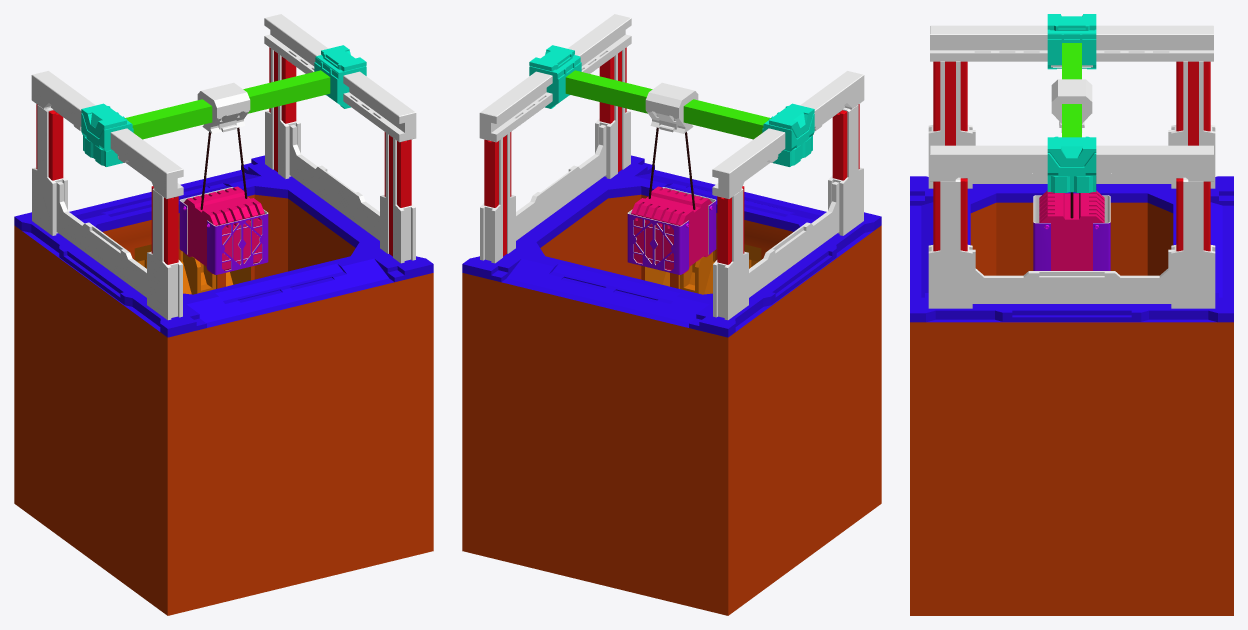
Rendered from Scifi_Prop_Crane_2x2.fbx.
The picture shows the model from 3 angles, left to right: view 1: azimuth 30°, elevation 25°; view 2: azimuth 150°, elevation 25°; view 3: azimuth 270°, elevation 25°; orthographic projection. The views are drawn at different scales.
Visible parts, largest first — view 1: Crane_2x2; view 2: Crane_2x2; view 3: Crane_2x2.
Boxes of the visible parts, x1=… form: Crane_2x2: x1=14, y1=14, x2=433, y2=615; Crane_2x2: x1=462, y1=14, x2=881, y2=615; Crane_2x2: x1=910, y1=14, x2=1233, y2=615.
Bounding box in the file's own units: 1600 × 2540 × 1600.
